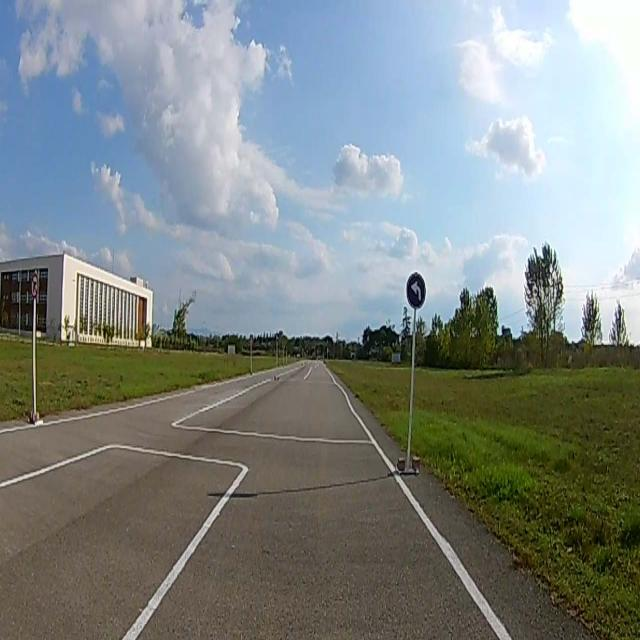sagadonulmez: (29, 274, 38, 298)
sol: (406, 273, 426, 308)
